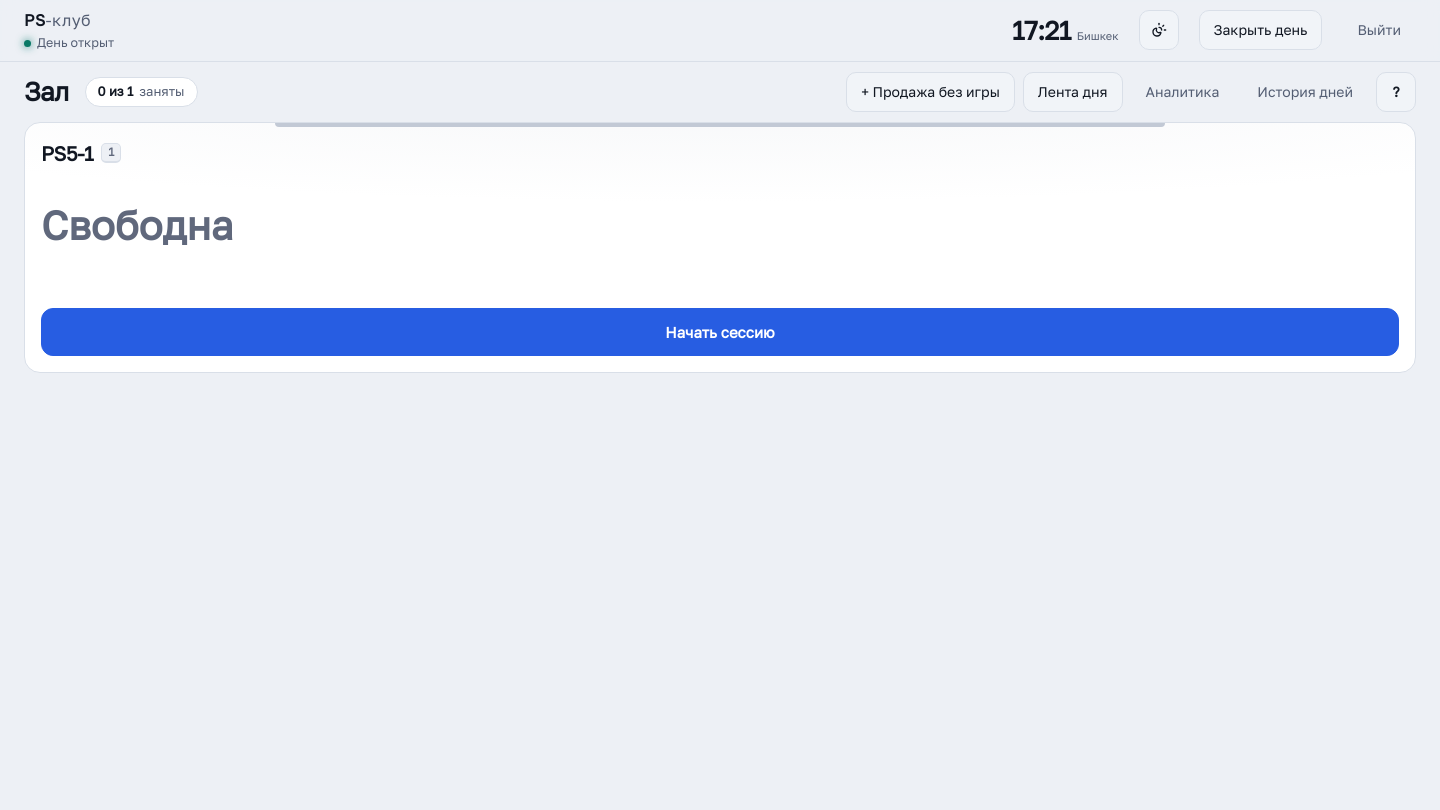
Test: a session that expires while the hall is open › returns to the login form when an action is answered with 401
Check: the text "PS5-1" is shown, box left=41, top=139, right=93, bottom=167
Click the button "+ Продажа без игры". click: (931,92)
box: left=846, top=72, right=1015, bottom=112
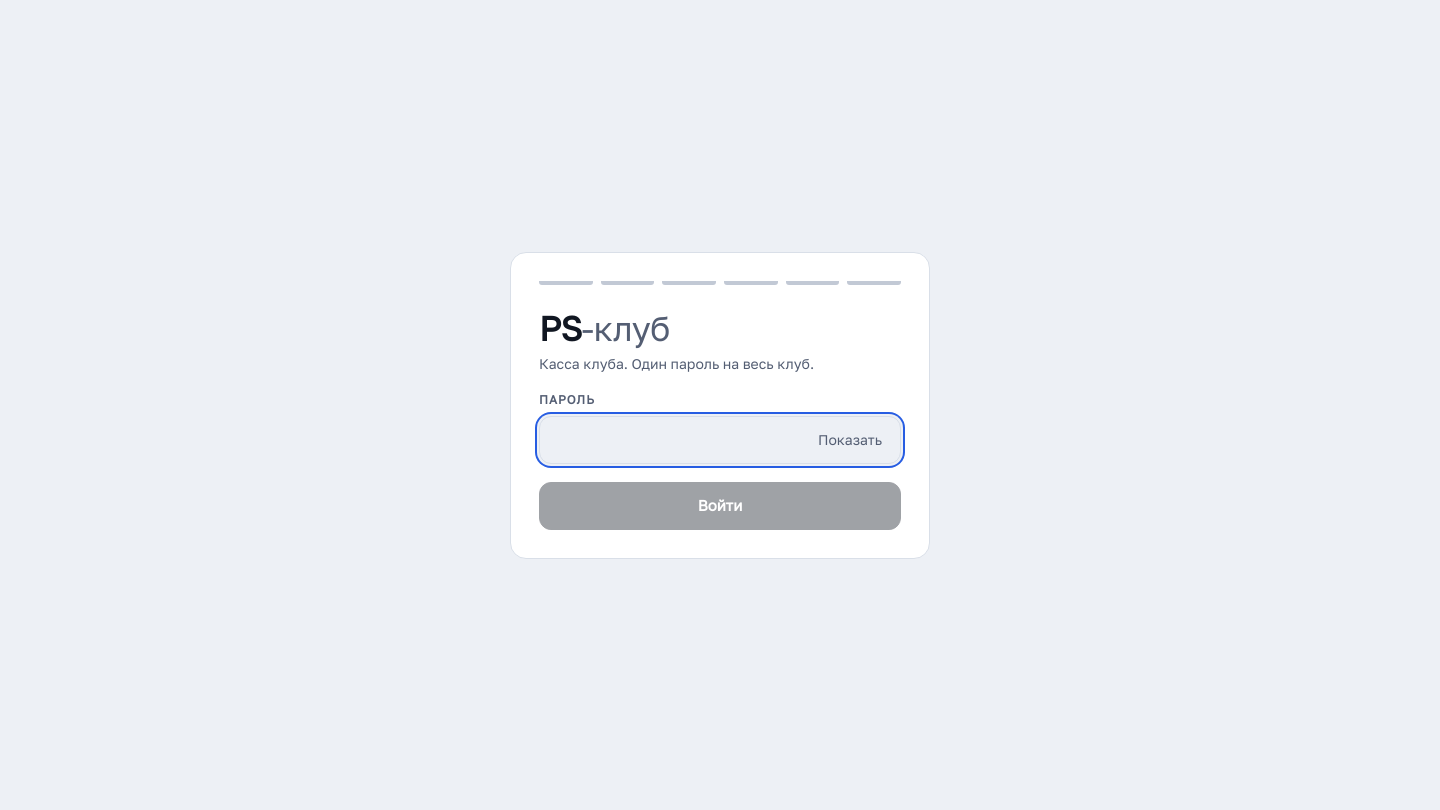
Check: the password field labelled "Пароль" is shown, box left=539, top=416, right=901, bottom=464
